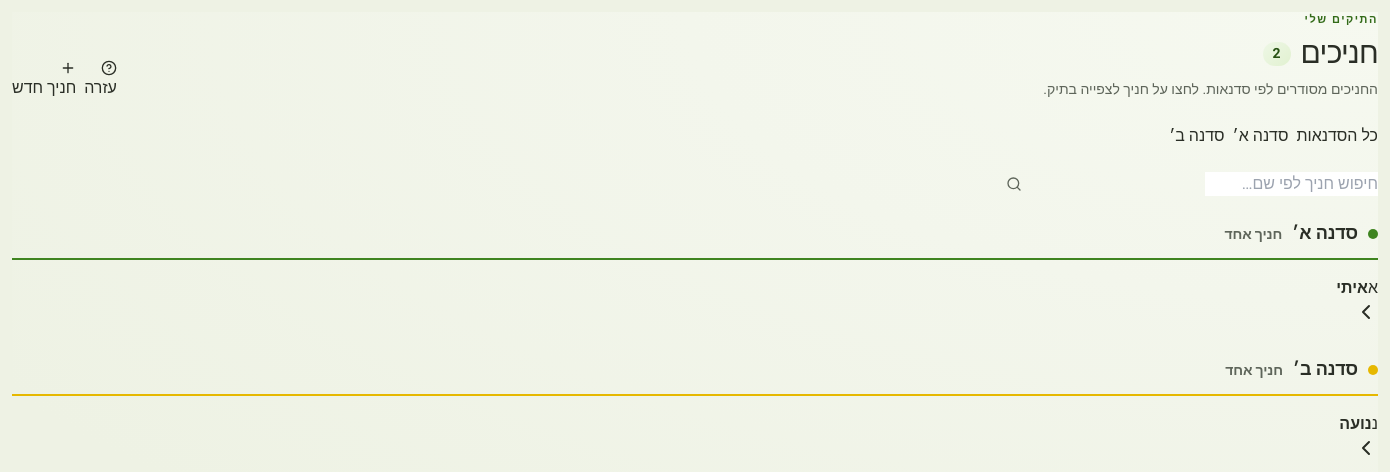
Test: StudentsPage › filters the students by name through the search box
Expected: the text "איתי" is shown, left=1336, top=276, right=1368, bottom=300
In the search field labelled "חיפוש חניך לפי שם": (1292, 184) left=1205, top=172, right=1378, bottom=196, type "נוע"
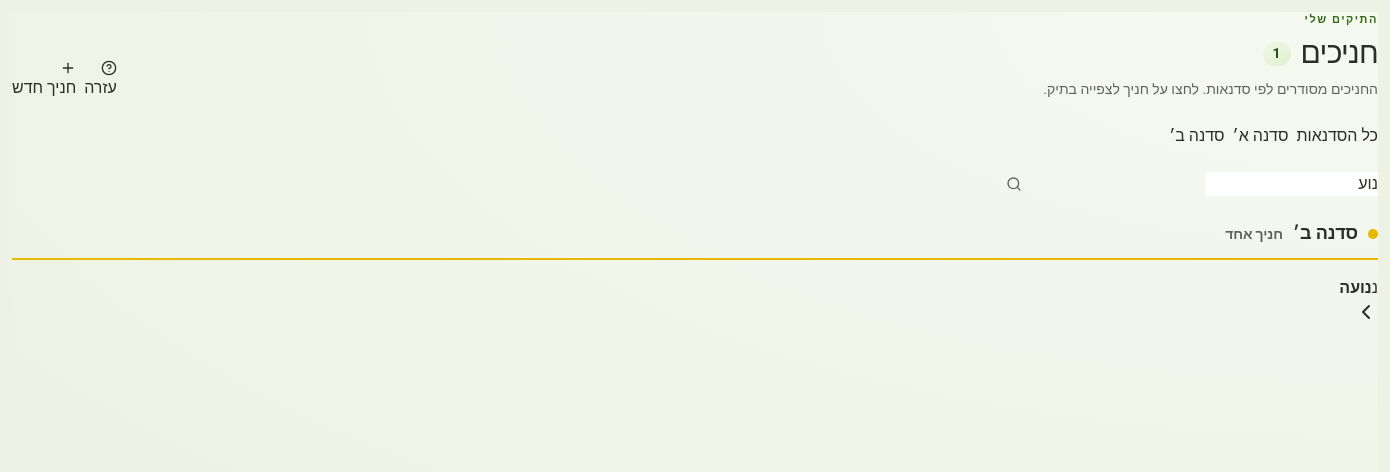
Expected: the text "נועה" is shown, left=1339, top=276, right=1372, bottom=300
Expected: the link "איתי" is gone
